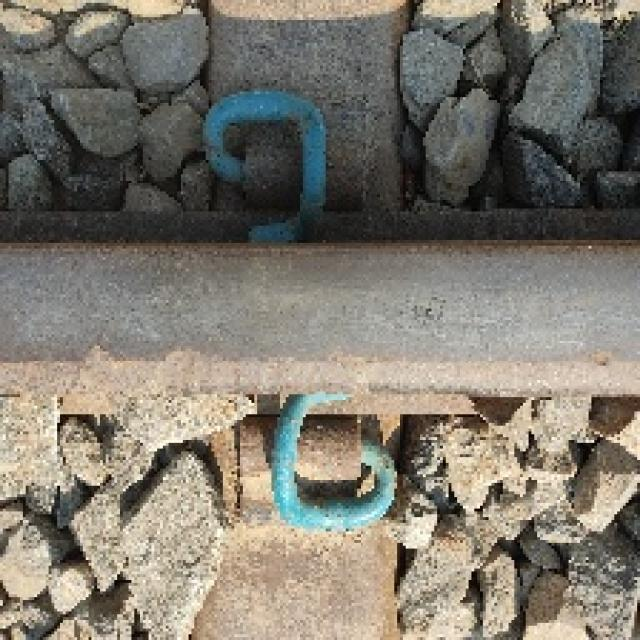Good Fasteners: (240, 391, 394, 529), (206, 91, 323, 240)
